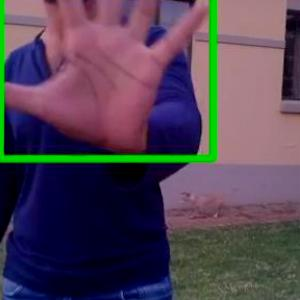follow_hand: (0, 0, 220, 161)
